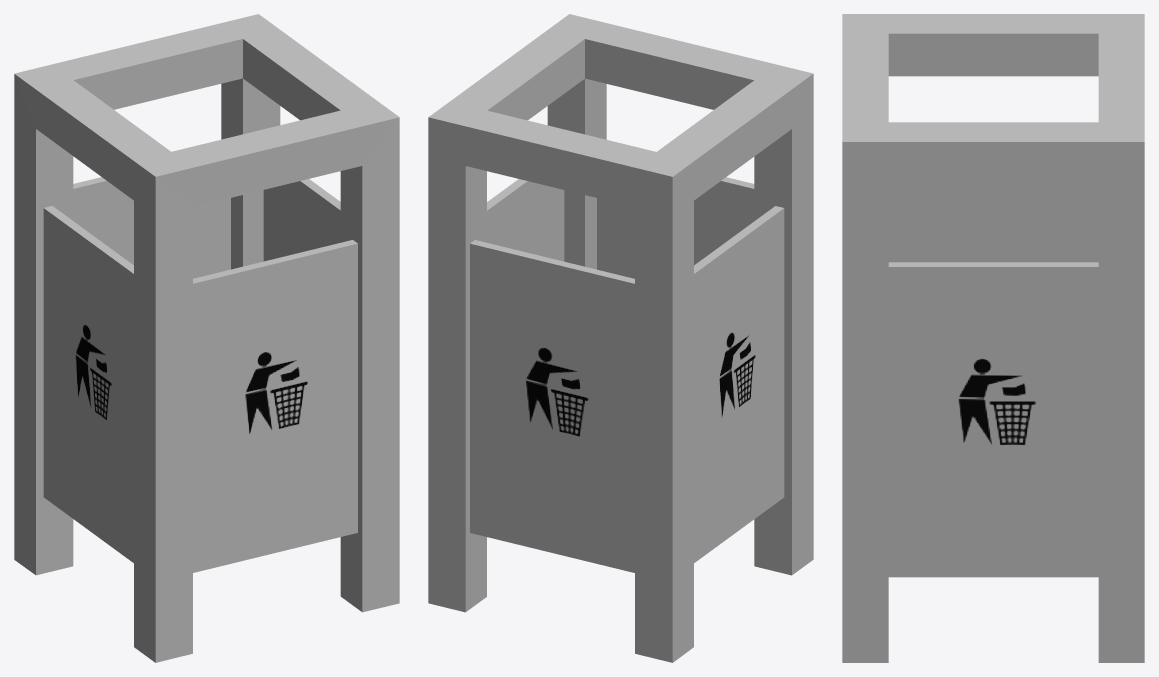
Rendered from Trash-02a.fbx.
The picture shows the model from 3 angles, left to right: view 1: azimuth 30°, elevation 25°; view 2: azimuth 150°, elevation 25°; view 3: azimuth 270°, elevation 25°; orthographic projection. The views are drawn at different scales.
Parts seen in each view (by area): view 1: Trash-02; view 2: Trash-02; view 3: Trash-02.
Boxes of the visible parts, box(x1,y1,x2,y2) form: Trash-02: box(14, 14, 399, 662); Trash-02: box(428, 14, 813, 662); Trash-02: box(842, 14, 1144, 662).
Size of the model in its own units: 70.92 by 135 by 70.92.
